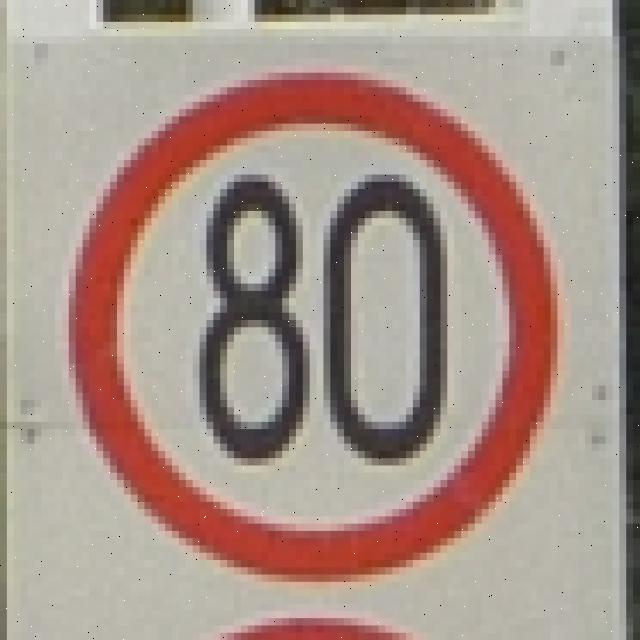speed limit 80: (68, 69, 557, 581)
